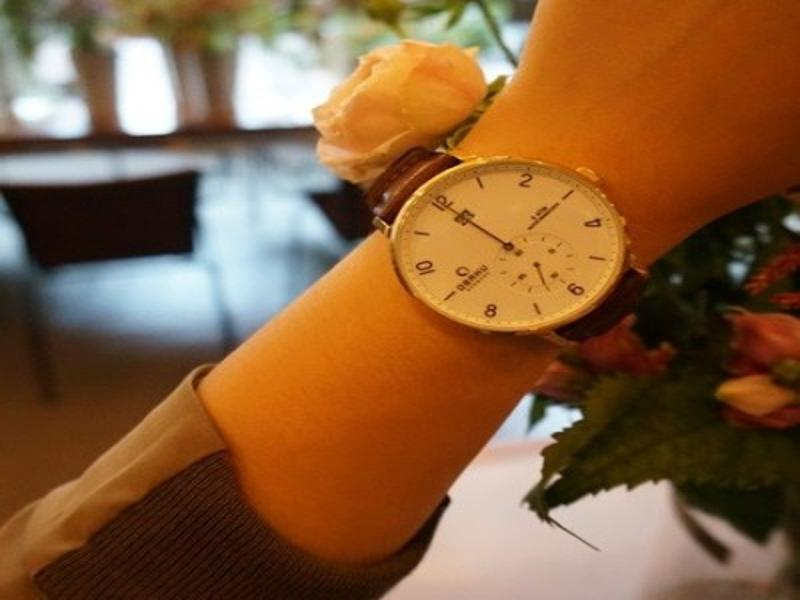watch: (371, 139, 662, 371)
